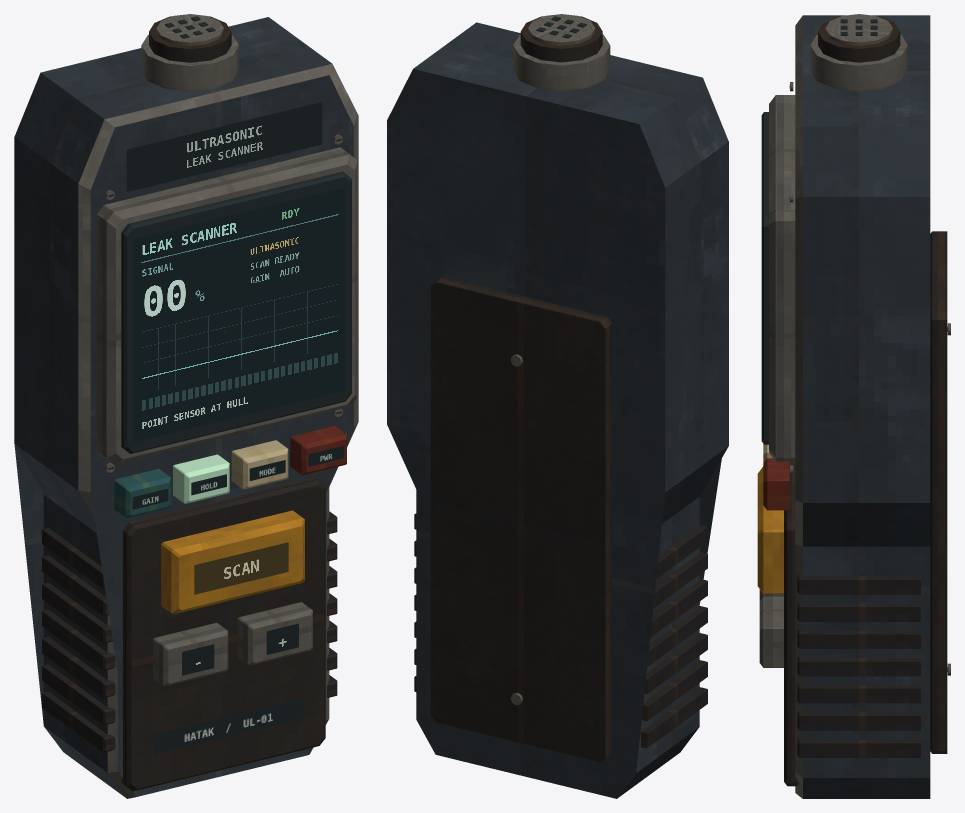
The model's file is Leak_Detector.glb.
The picture shows the model from 3 angles, left to right: view 1: azimuth 30°, elevation 25°; view 2: azimuth 150°, elevation 25°; view 3: azimuth 270°, elevation 25°; orthographic projection.
Parts seen in each view (by area): view 1: Detector_Main_Case, Detector_Screen, Detector_Grip_Front, Display_Metal_Rim, Display_Rubber_Gasket, Scanner_Header, Scan_Button, Sensor_Base, Scanner_ID, Gain_Key_-, Gain_Key_+, Scan_Key_Legend (+15 smaller); view 2: Detector_Main_Case, Detector_Battery_Back, Sensor_Base, Sensor_Collar, Sensor_Acoustic_Face, Grip_Rib_-1_0, Grip_Rib_-1_1, Grip_Rib_-1_2, Grip_Rib_-1_3, Grip_Rib_-1_4, Grip_Rib_-1_5, Grip_Rib_-1_6; view 3: Detector_Main_Case, Display_Metal_Rim, Detector_Battery_Back, Detector_Grip_Front, Sensor_Base, Display_Rubber_Gasket, Scan_Button, Grip_Rib_1_3, Grip_Rib_1_1, Grip_Rib_1_0, Grip_Rib_1_2, Grip_Rib_1_4 (+6 smaller).
Part boxes in pixels (box(x1,y1,x2,y2)): Detector_Main_Case: box(14, 17, 358, 798); Detector_Screen: box(133, 187, 345, 441); Detector_Grip_Front: box(121, 477, 325, 791); Display_Metal_Rim: box(96, 147, 357, 464); Display_Rubber_Gasket: box(121, 171, 351, 453); Scanner_Header: box(126, 102, 322, 191); Scan_Button: box(161, 510, 304, 614); Sensor_Base: box(141, 34, 238, 91); Scanner_ID: box(154, 698, 303, 754); Gain_Key_-: box(153, 622, 228, 686); Gain_Key_+: box(237, 602, 312, 665); Scan_Key_Legend: box(194, 542, 288, 594); Detector_Main_Case: box(387, 22, 728, 798); Detector_Battery_Back: box(430, 277, 612, 762); Sensor_Base: box(513, 34, 610, 90); Sensor_Collar: box(520, 16, 602, 62); Sensor_Acoustic_Face: box(528, 14, 595, 45); Grip_Rib_-1_0: box(641, 687, 707, 748); Grip_Rib_-1_1: box(641, 660, 707, 721); Grip_Rib_-1_2: box(644, 633, 707, 694); Grip_Rib_-1_3: box(647, 606, 707, 666); Grip_Rib_-1_4: box(650, 579, 707, 637); Grip_Rib_-1_5: box(653, 552, 707, 607); Grip_Rib_-1_6: box(656, 524, 707, 578); Detector_Main_Case: box(795, 15, 930, 798); Display_Metal_Rim: box(769, 95, 795, 461); Detector_Battery_Back: box(930, 231, 947, 753); Detector_Grip_Front: box(784, 461, 798, 786); Sensor_Base: box(810, 34, 907, 91); Display_Rubber_Gasket: box(761, 112, 768, 444); Scan_Button: box(757, 466, 783, 593); Grip_Rib_1_3: box(797, 656, 920, 676); Grip_Rib_1_1: box(797, 711, 920, 730); Grip_Rib_1_0: box(797, 738, 920, 757); Grip_Rib_1_2: box(797, 684, 920, 703); Grip_Rib_1_4: box(797, 629, 920, 648).
Bounding box in the file's own units: 0.086 × 0.2138 × 0.0516.
Materials: 19 (17 with a texture image).
